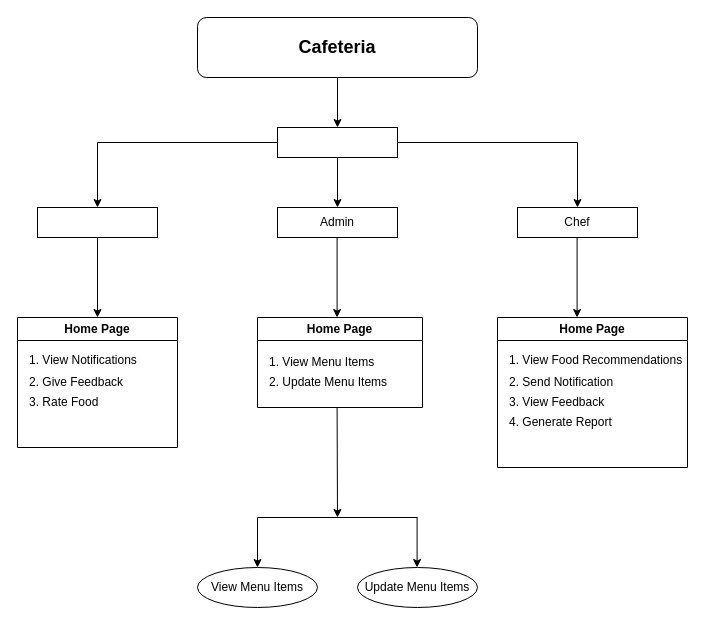
The diagram is 725 pixels wide and 625 high, and some of its shapes have lost their labels. The centre of each missing label's shape, as x and y in pixels:
"Employee" belongs at point 97,222.
"User Login" belongs at point 337,142.
